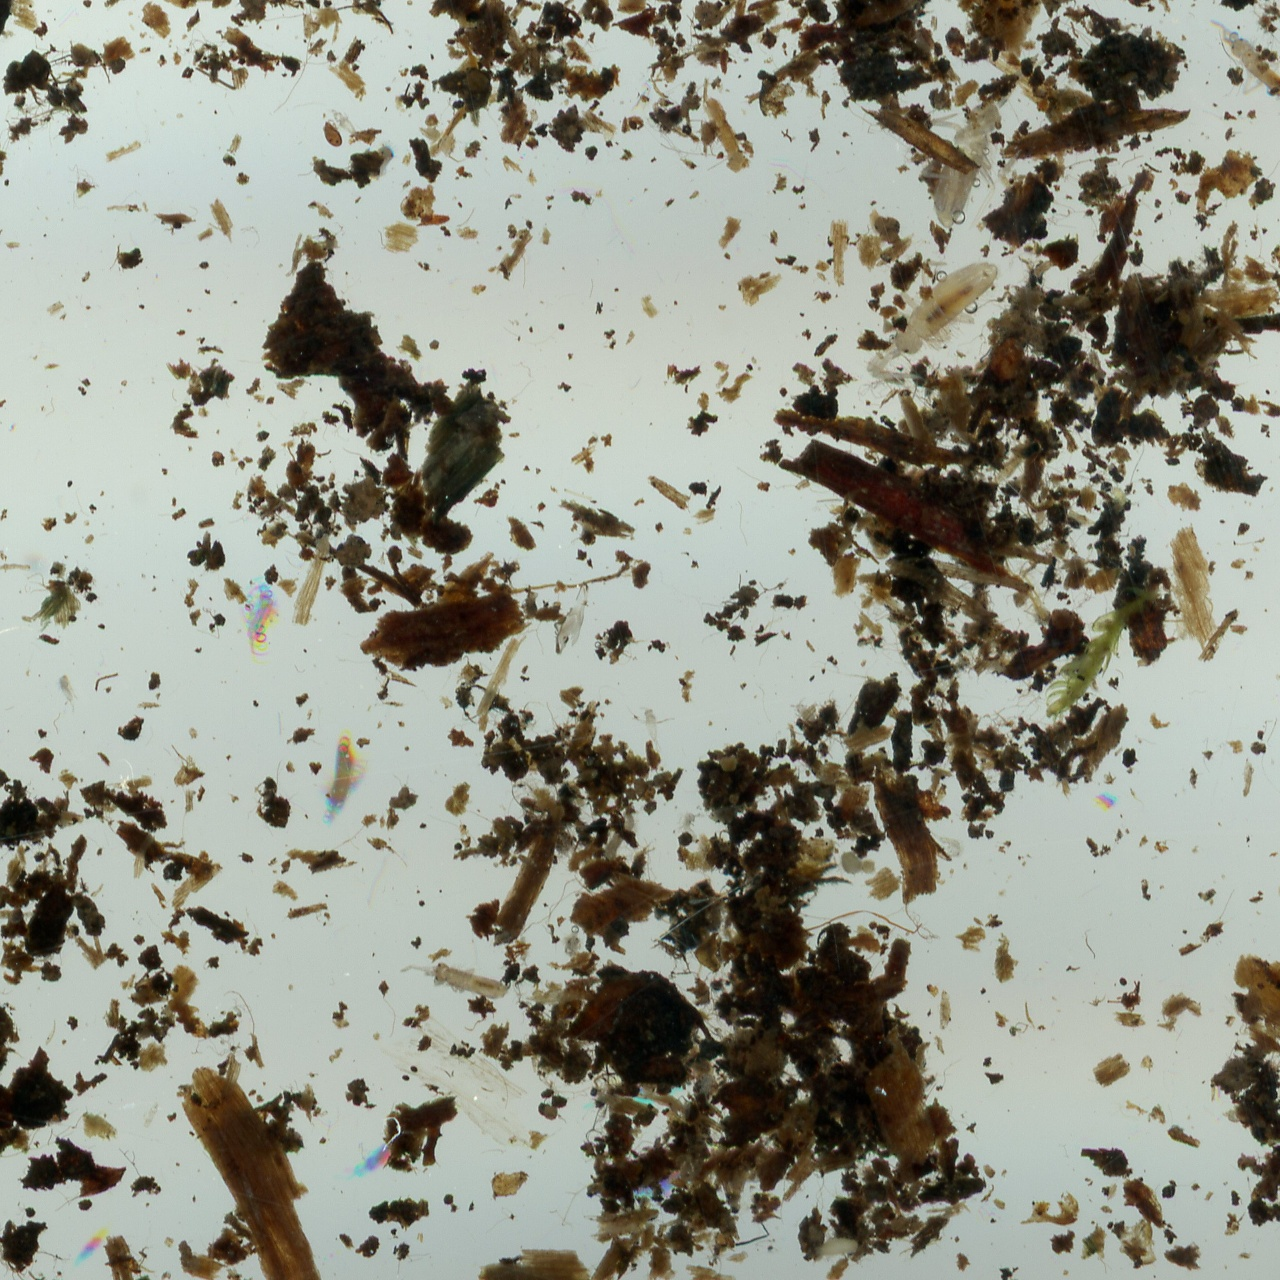arthropod: (834, 220, 1020, 409), (898, 23, 1053, 247), (1185, 4, 1280, 126), (399, 949, 511, 1008), (316, 730, 375, 835), (243, 580, 282, 662), (625, 699, 679, 757), (598, 805, 639, 864), (324, 103, 363, 141), (932, 828, 968, 861), (56, 673, 81, 715), (673, 810, 705, 840), (788, 697, 818, 725), (692, 1071, 718, 1103), (559, 932, 585, 961), (519, 934, 532, 968)
